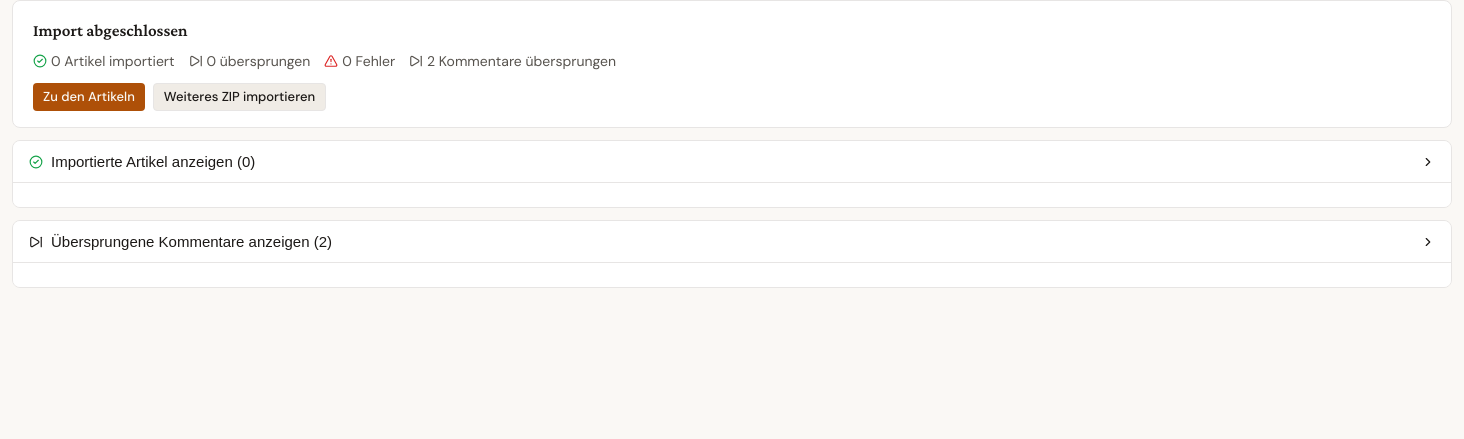
Test case: MediumImportResult › renders the skipped-comments count + collapsible section + reason per row
Expected: the element with test id "medium-import-result-skipped-comments-count" is shown, [409,50,616,73]
Click the button with test id "medium-import-result-skipped-comments-trigger": point(192, 242) [13,221,1451,262]
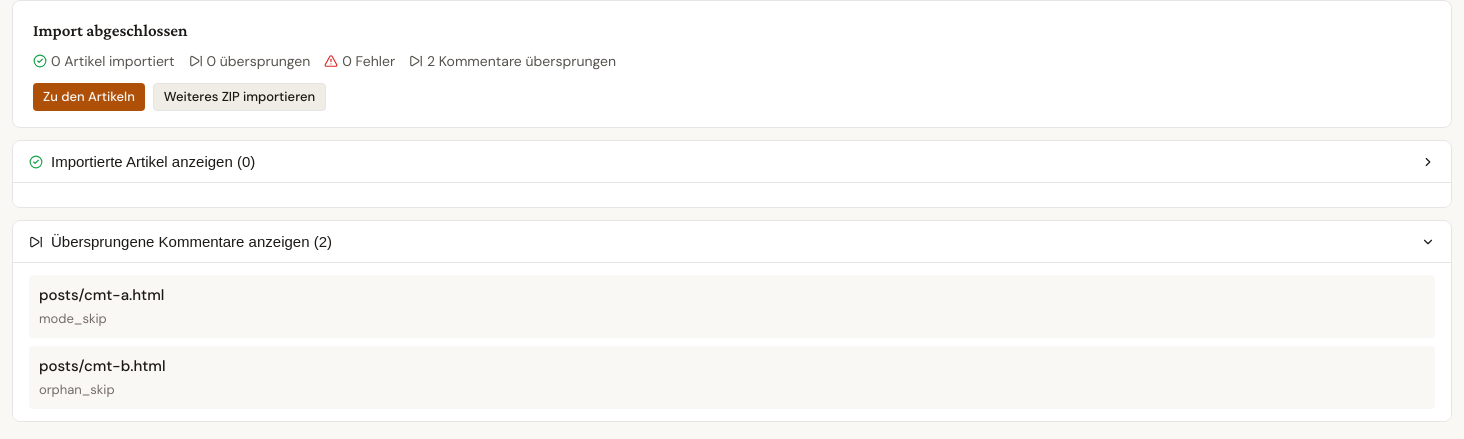
Expected: the number of elements with test id "medium-import-result-skipped-comment-row" is 2, [29,275,1435,338]; [29,346,1435,409]
Expected: the element with test id "medium-import-result-skipped-comment-row" shows "mode_skip", [39,310,107,327]
Expected: the element with test id "medium-import-result-skipped-comment-row" shows "orphan_skip", [39,381,115,398]
